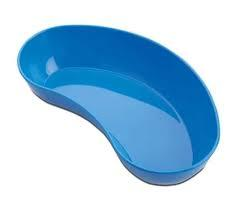Kidney Tray: (18, 23, 221, 187)
